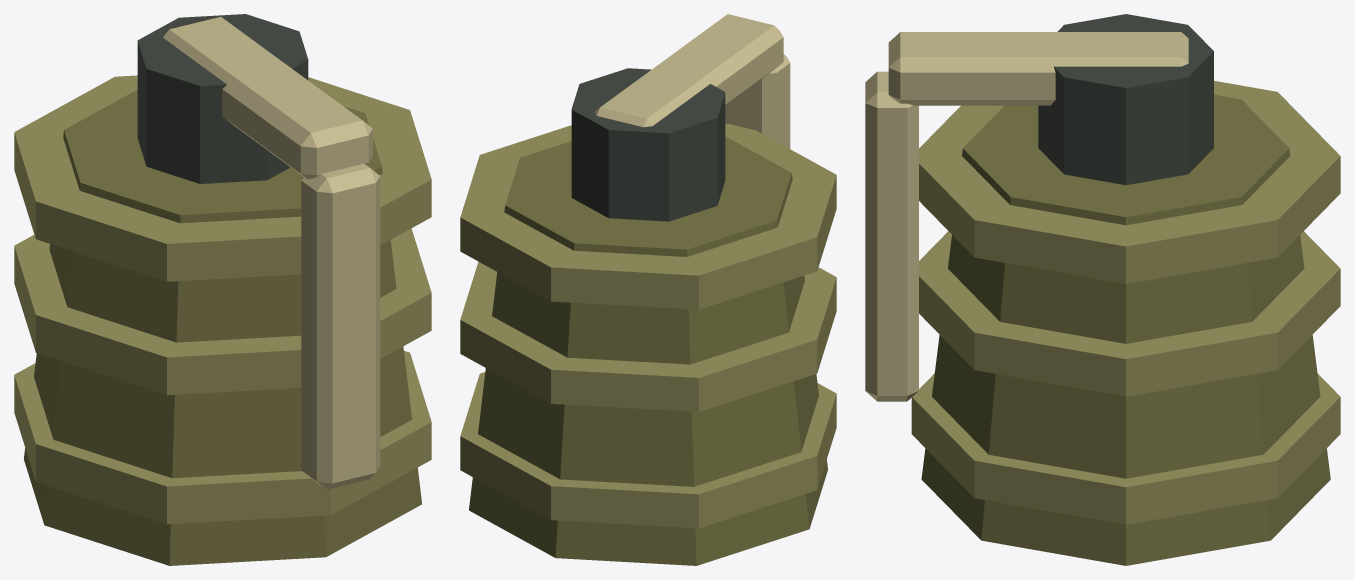
Rendered from grenade.glb.
The picture shows the model from 3 angles, left to right: view 1: azimuth 30°, elevation 25°; view 2: azimuth 150°, elevation 25°; view 3: azimuth 270°, elevation 25°; orthographic projection. The views are drawn at different scales.
Visible parts, largest first — view 1: Grenade_body.001, Grenade_rib.002, Grenade_lever, Grenade_rib.001, Grenade_rib, Grenade_fuse, Grenade_spoon; view 2: Grenade_body.001, Grenade_rib.002, Grenade_rib.001, Grenade_rib, Grenade_fuse, Grenade_spoon, Grenade_lever; view 3: Grenade_body.001, Grenade_rib.002, Grenade_rib.001, Grenade_rib, Grenade_fuse, Grenade_spoon, Grenade_lever.
Part boxes in pixels (x1,y1,x2,y2): Grenade_body.001: (24, 89, 421, 565); Grenade_rib.002: (14, 75, 431, 281); Grenade_lever: (301, 163, 380, 489); Grenade_rib.001: (14, 228, 431, 395); Grenade_rib: (14, 351, 431, 524); Grenade_fuse: (137, 14, 308, 183); Grenade_spoon: (163, 17, 372, 179); Grenade_body.001: (469, 136, 827, 565); Grenade_rib.002: (460, 123, 836, 309); Grenade_rib.001: (460, 261, 836, 411); Grenade_rib: (460, 372, 836, 528); Grenade_fuse: (571, 68, 725, 221); Grenade_spoon: (594, 14, 783, 127); Grenade_lever: (725, 54, 790, 148); Grenade_body.001: (921, 94, 1330, 565); Grenade_rib.002: (919, 80, 1340, 283); Grenade_rib.001: (919, 231, 1340, 396); Grenade_rib: (911, 373, 1340, 524); Grenade_fuse: (1038, 14, 1213, 185); Grenade_spoon: (888, 32, 1188, 105); Grenade_lever: (865, 71, 918, 401).
Bounding box in the file's own units: 0.176 × 0.197 × 0.195.
